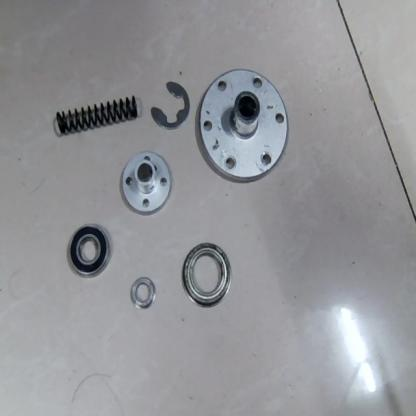FOD: (197, 66, 292, 184), (54, 89, 140, 138), (180, 238, 234, 310), (120, 150, 174, 218), (64, 218, 114, 283), (148, 78, 192, 133), (127, 276, 160, 312)
